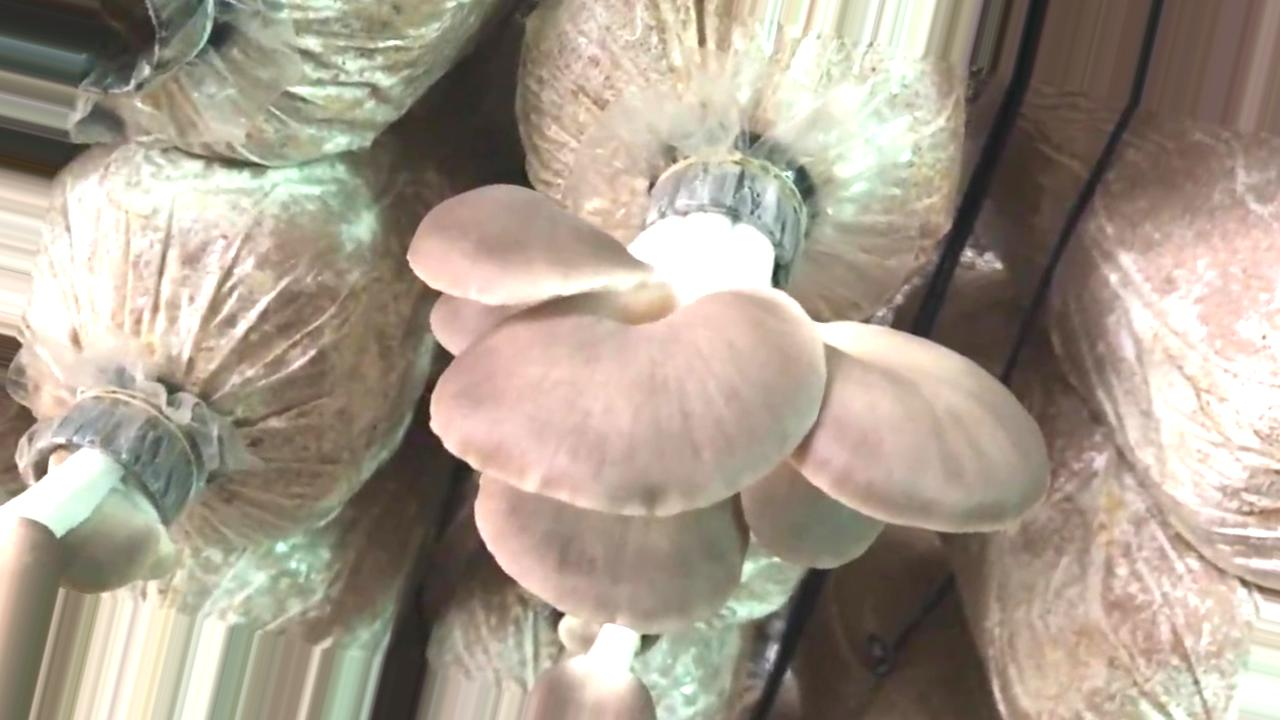nam: (408, 158, 1048, 633), (1, 408, 194, 720), (531, 616, 652, 720)
